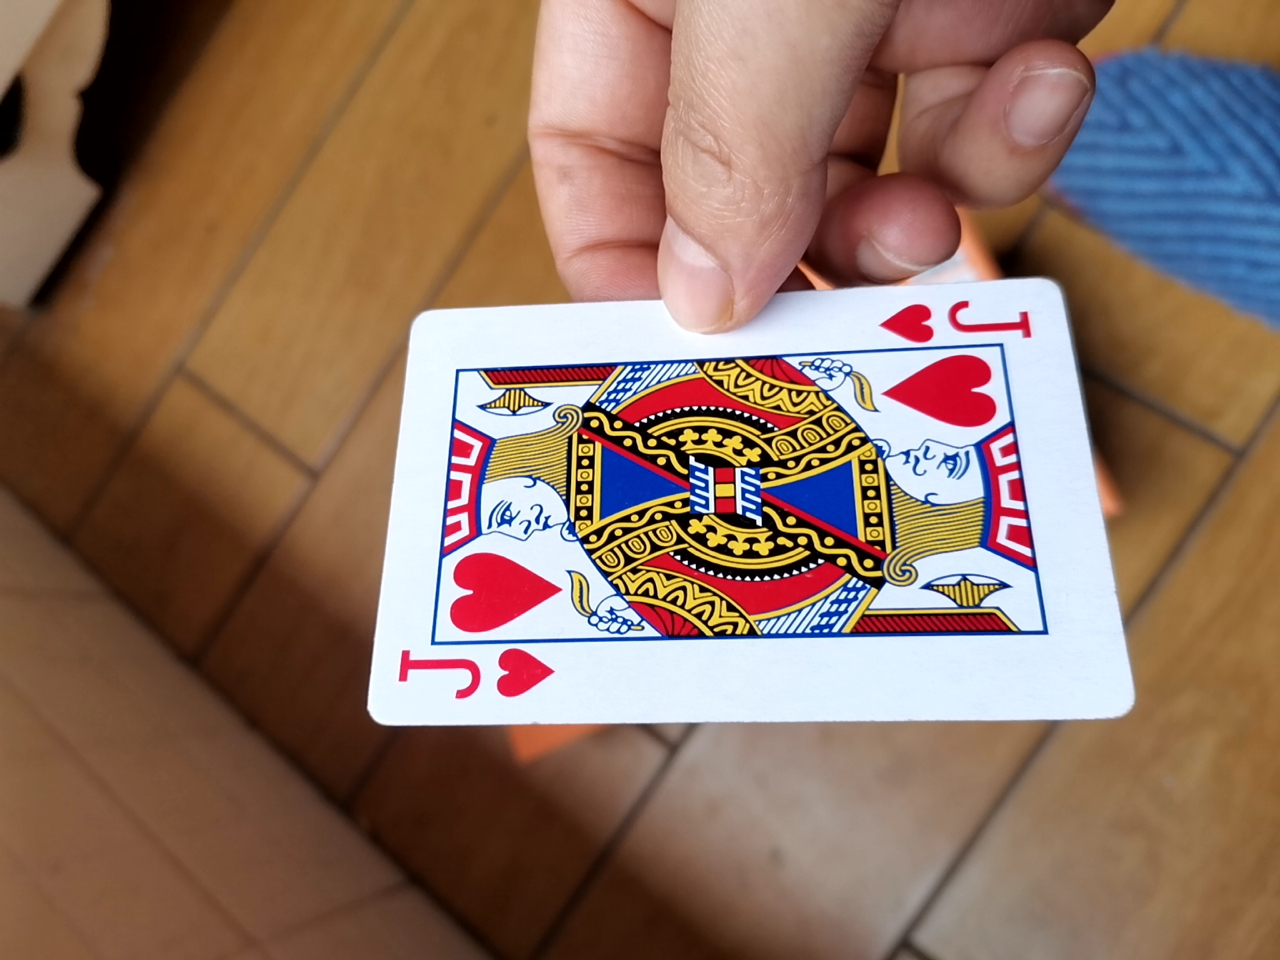hx j: (354, 265, 1127, 741)
